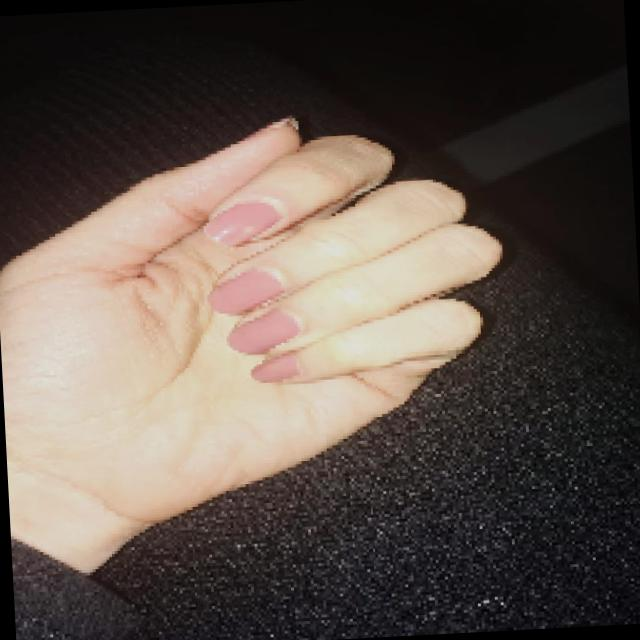Nail: (205, 201, 283, 245), (228, 310, 301, 354), (210, 270, 283, 314), (253, 354, 298, 382)
